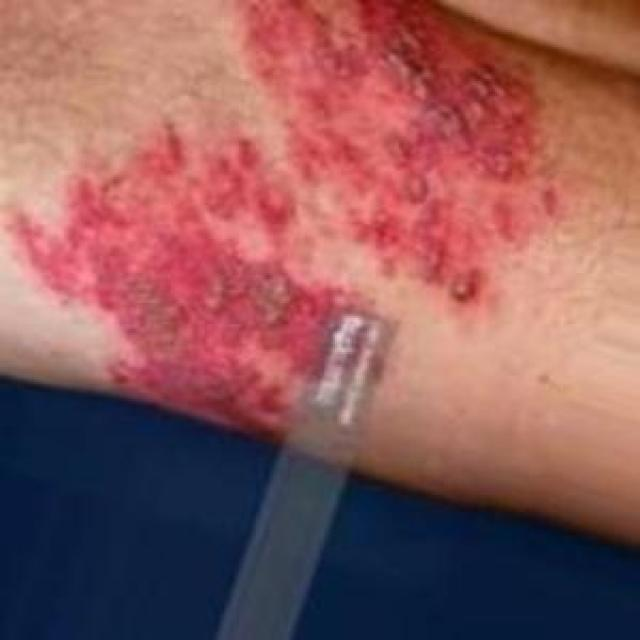Shingles: (0, 117, 374, 430), (206, 0, 559, 299)
